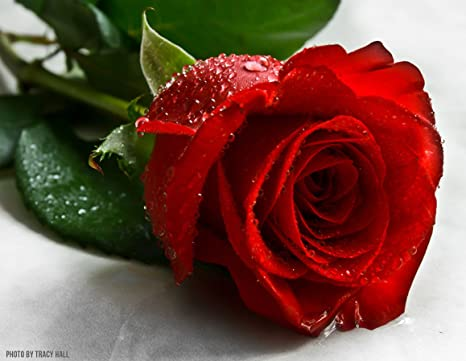rose: (136, 42, 448, 345)
